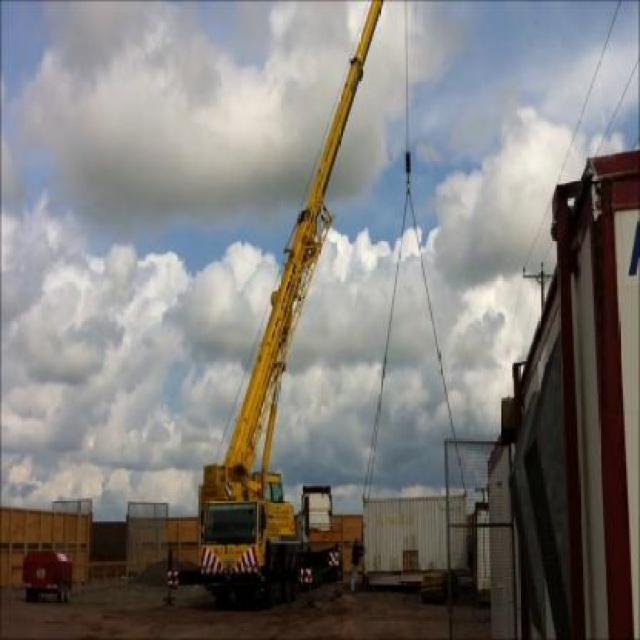Mobile Crane: (155, 0, 387, 614)
